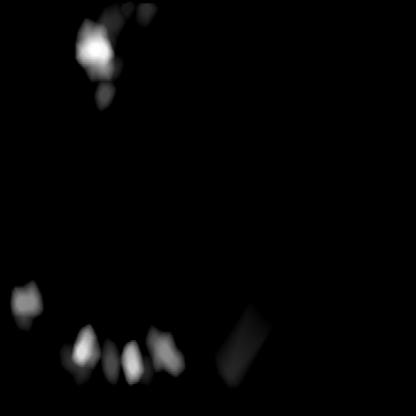fingers: (75, 15, 115, 84)
palm: (9, 285, 183, 379)
